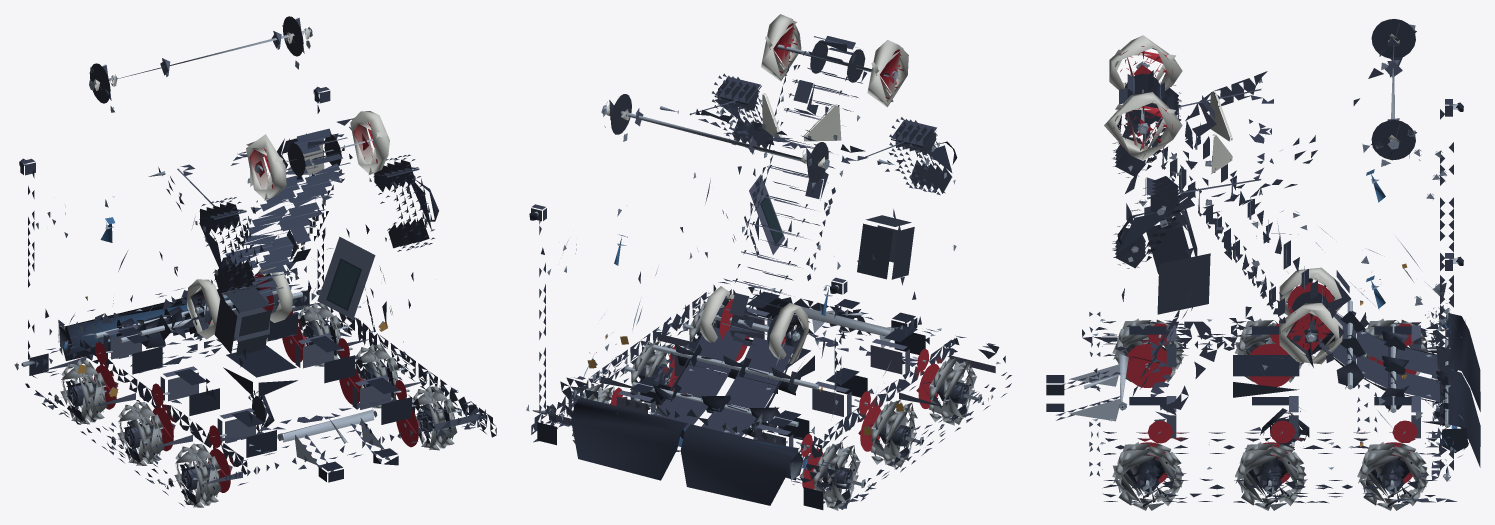
The model's file is lions-robot-model.glb.
3 views of the same model, side by side, from view 1: azimuth 30°, elevation 25°; view 2: azimuth 150°, elevation 25°; view 3: azimuth 270°, elevation 25° (orthographic). The views are drawn at different scales.
Parts seen in each view (by area): view 1: Lions robot – localization hologram; view 2: Lions robot – localization hologram; view 3: Lions robot – localization hologram.
Part boxes in pixels (box(x1,y1,x2,y2)): Lions robot – localization hologram: box(14, 16, 496, 507); Lions robot – localization hologram: box(526, 14, 1011, 510); Lions robot – localization hologram: box(1046, 19, 1480, 510).
Size of the model in its own units: 1.39 by 1.5 by 1.53.
